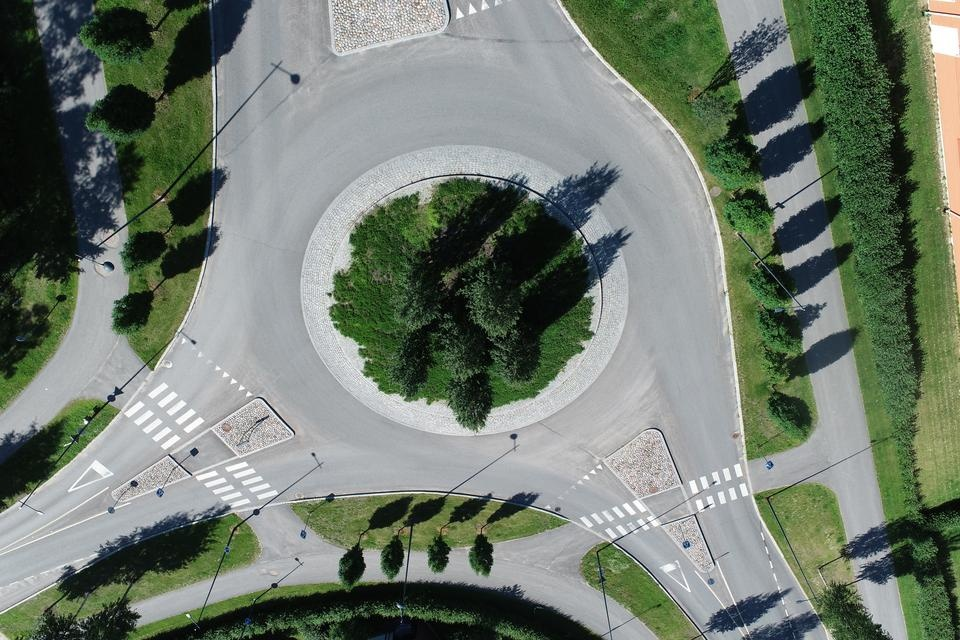roundabout: (178, 10, 755, 527)
